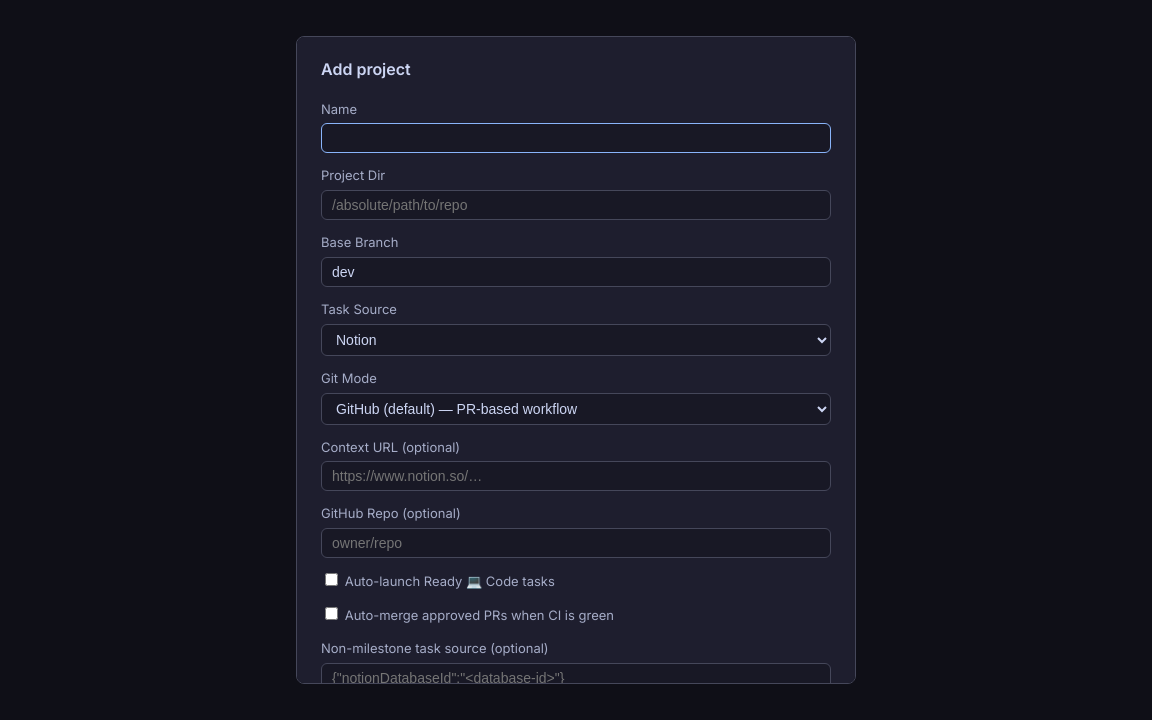
Test: ProjectFormModal › shows validation error for invalid JSON in non-milestone source field
The width and height of the screenshot is (1152, 720).
In the field labelled "Name": (576, 138) [321,123,831,153], type "P"
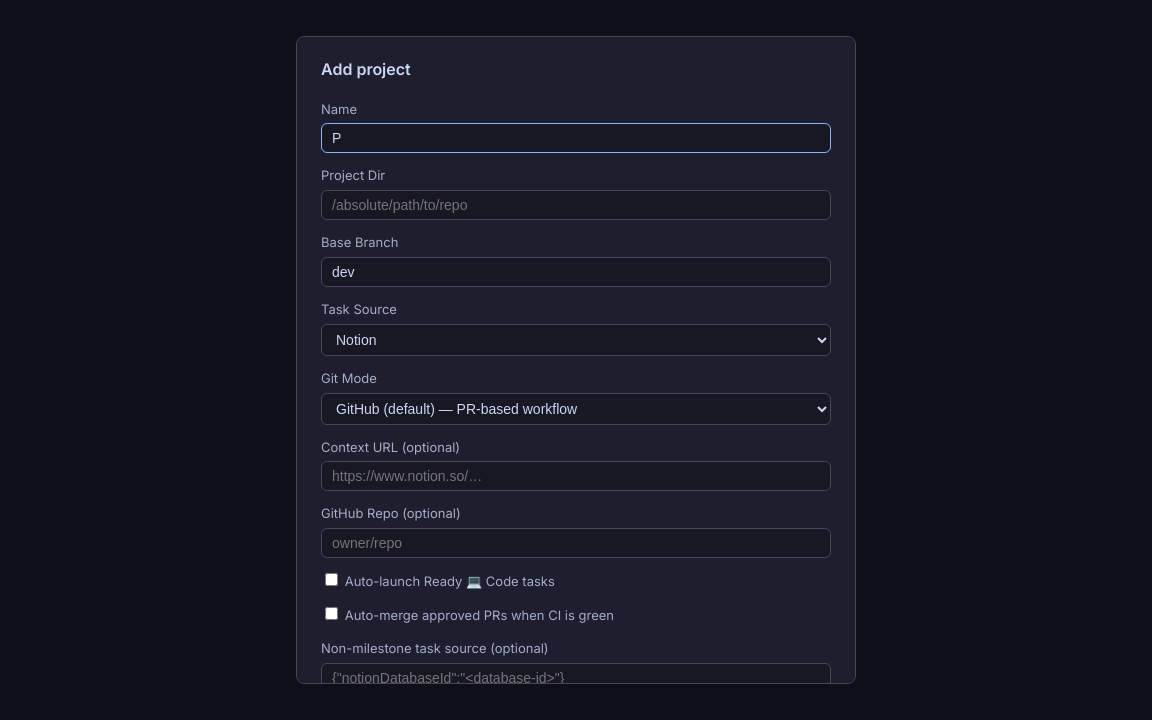
In the field labelled "Project Dir": (576, 205) [321,190,831,220], type "/dir"
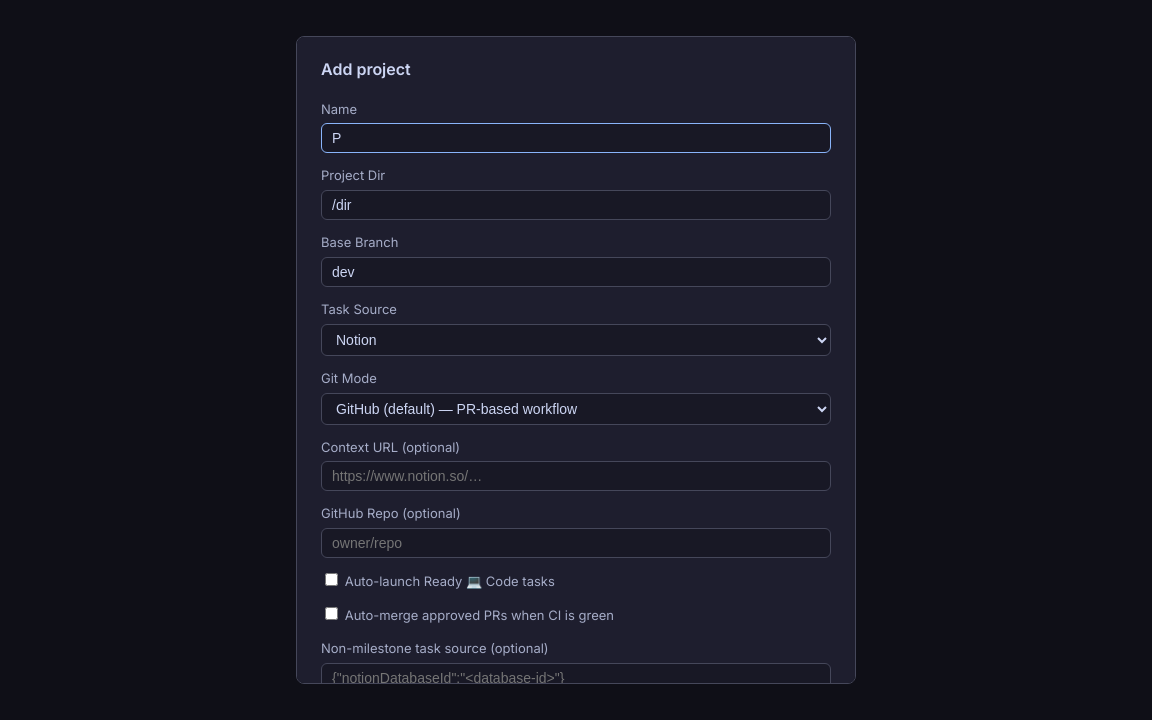
In the field labelled "Non-milestone task source (optional)": (576, 678) [321,663,831,693], type "not-json"
(page scrolled)
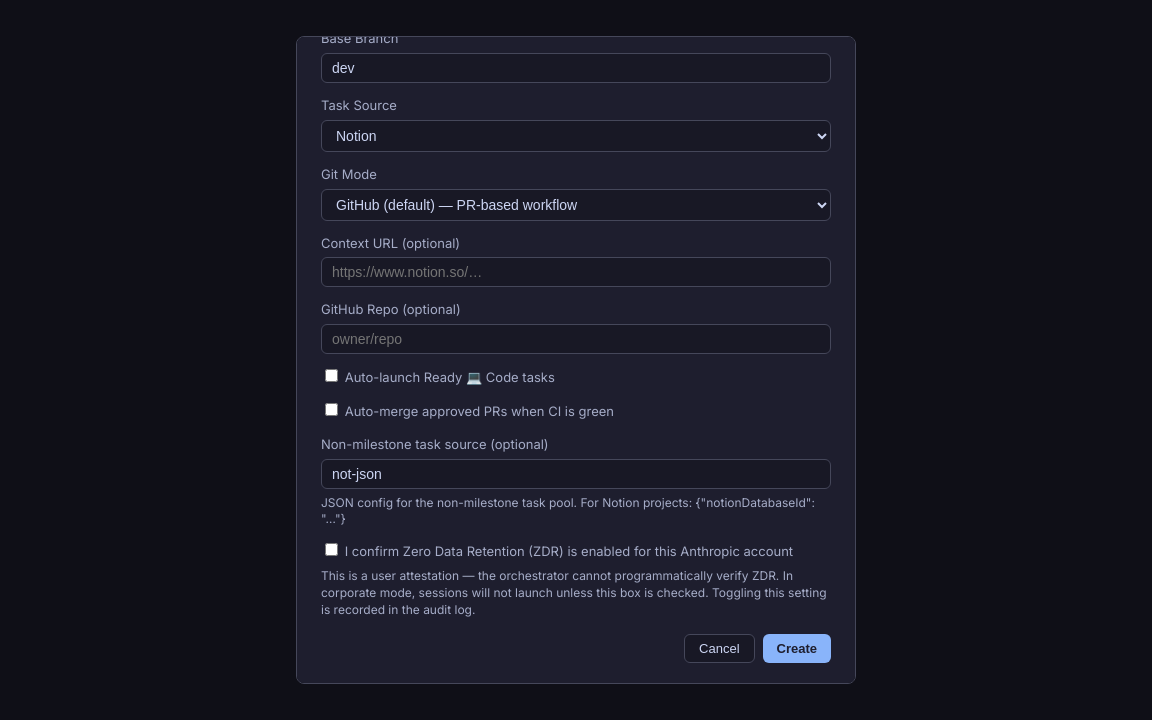
Click the button "Create": (797, 649) [762,634,831,663]
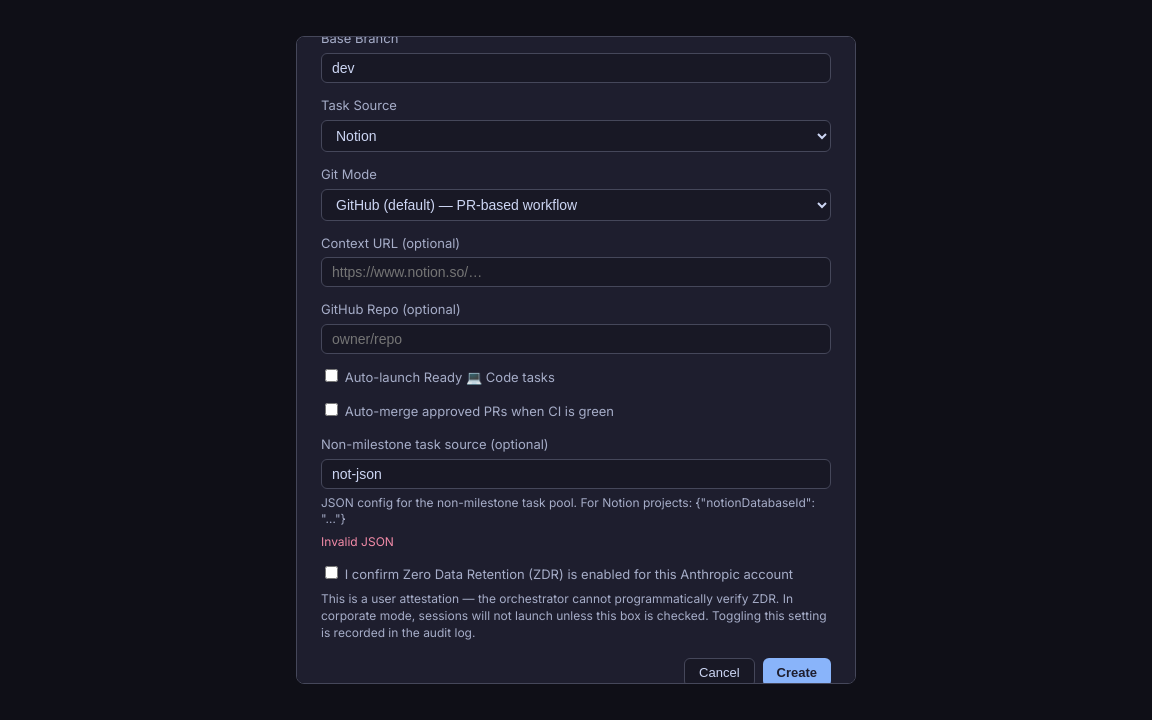
expect the text "Invalid JSON" is shown: met, box [321,534,394,549]
